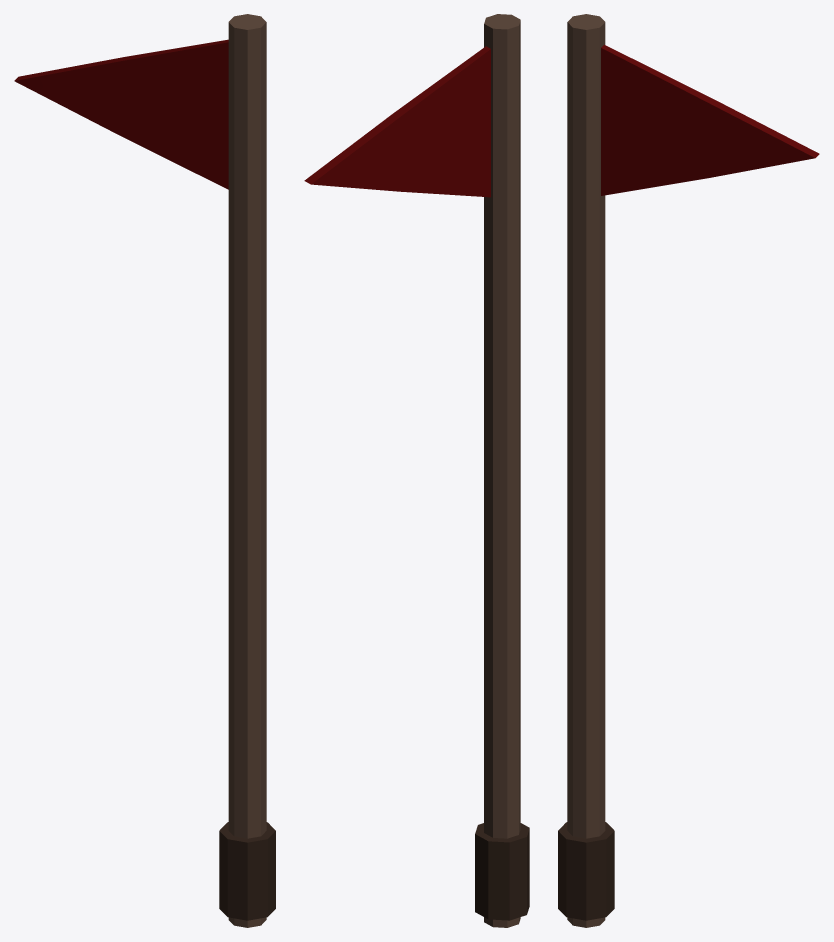
Rendered from Drapeau.fbx.
3 views of the same model, side by side, from view 1: azimuth 90°, elevation 25°; view 2: azimuth 150°, elevation 25°; view 3: azimuth 270°, elevation 25° (orthographic).
Visible parts, largest first — view 1: Cylinder014; view 2: Cylinder014; view 3: Cylinder014.
Part boxes in pixels (x1,y1,x2,y2): Cylinder014: (14, 14, 275, 927); Cylinder014: (304, 14, 529, 927); Cylinder014: (558, 14, 819, 927).
Size of the model in its own units: 0.2896 by 2.3 by 0.6078.
